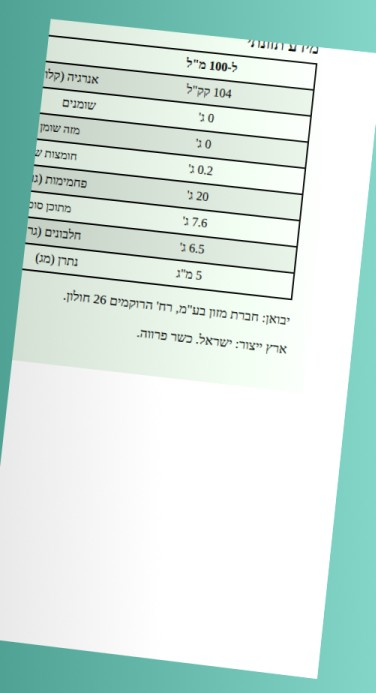carbs: (184, 186, 211, 205)
energy: (184, 81, 234, 103)
fat: (196, 109, 216, 127)
protein: (177, 238, 207, 258)
